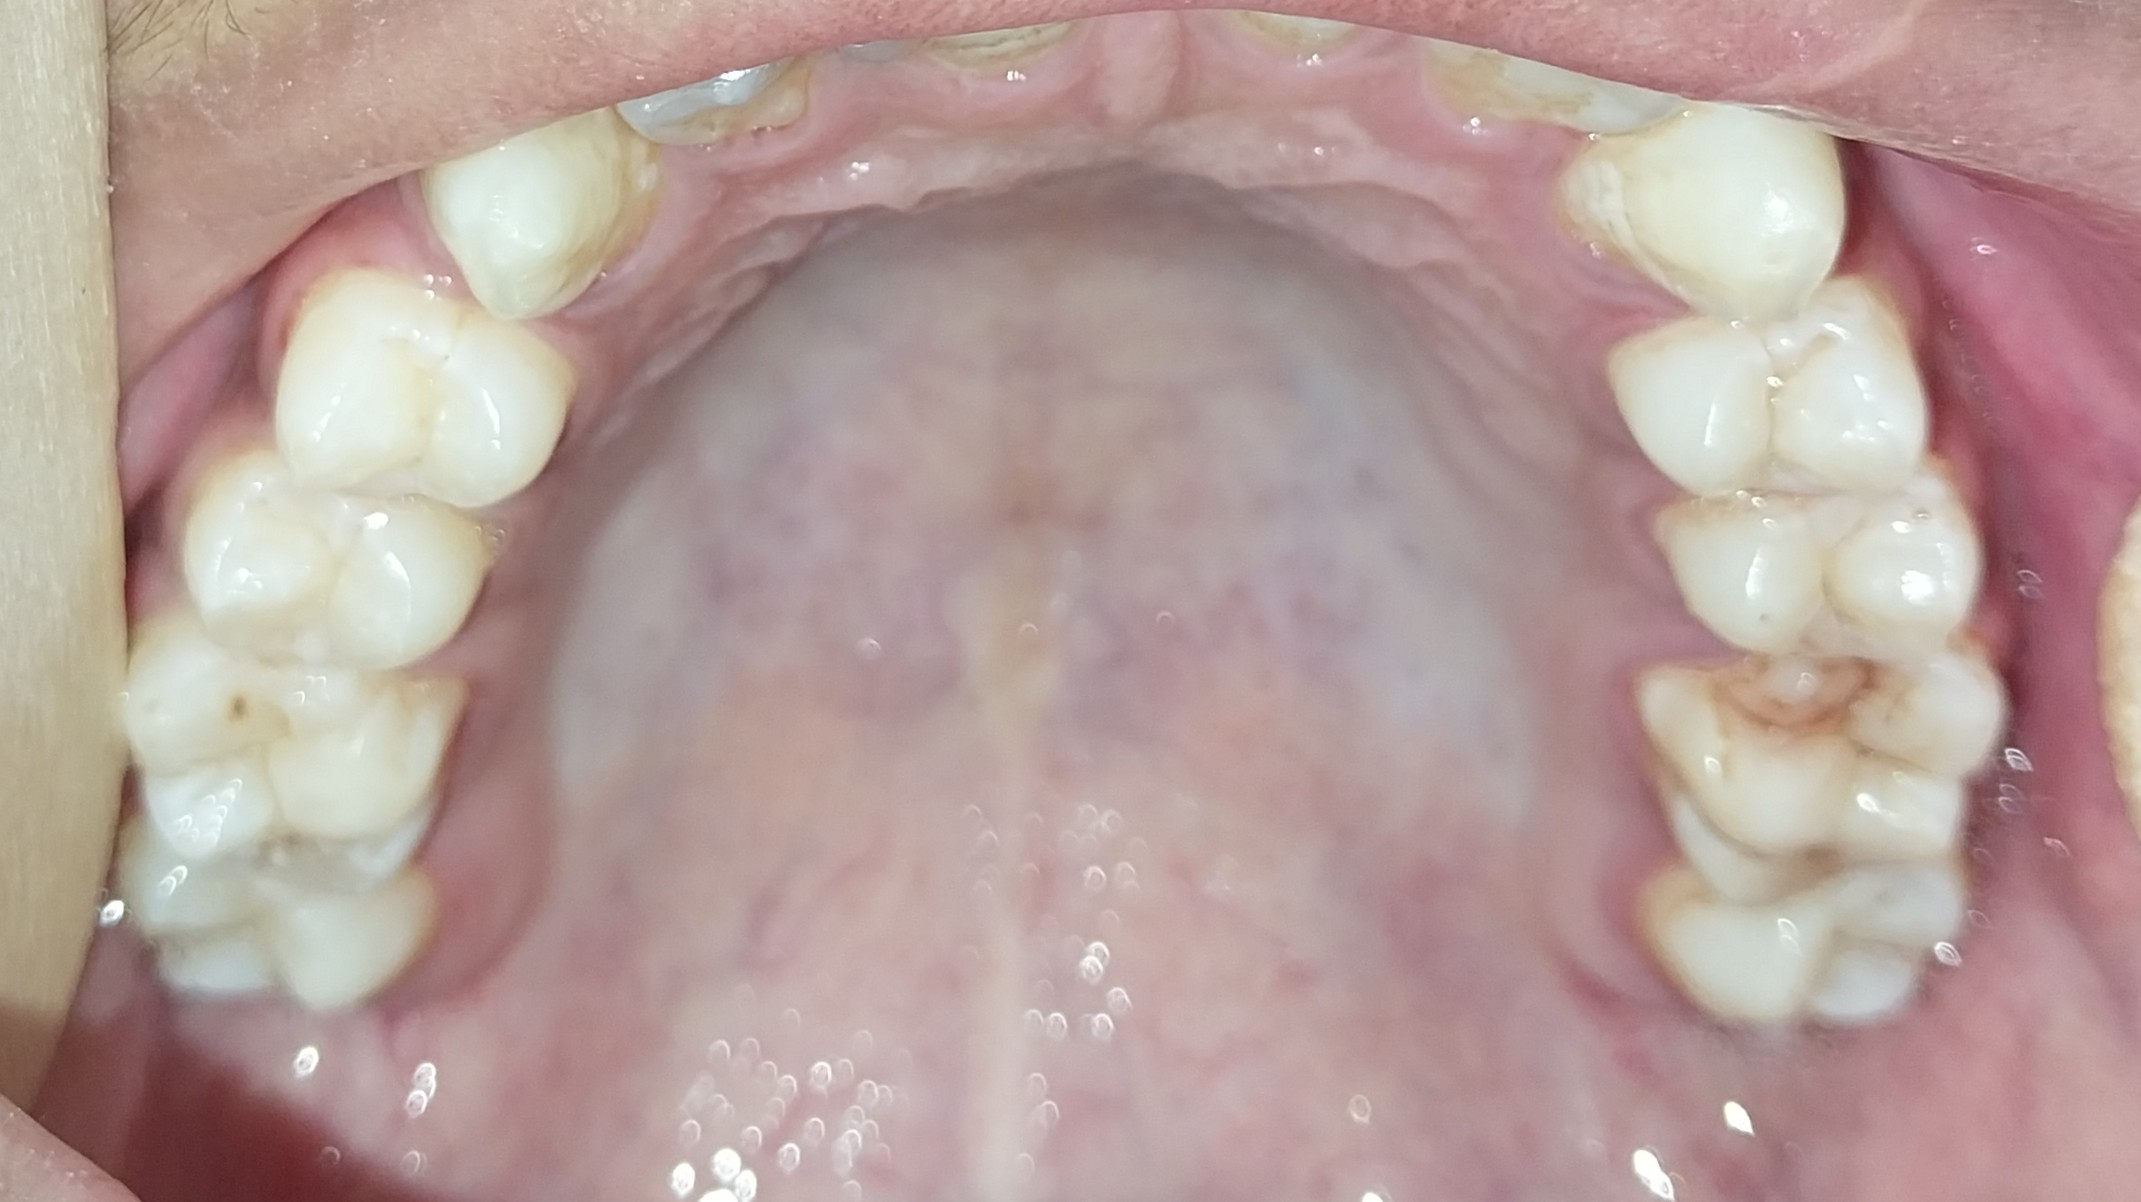D: (1636, 612, 2014, 875)
